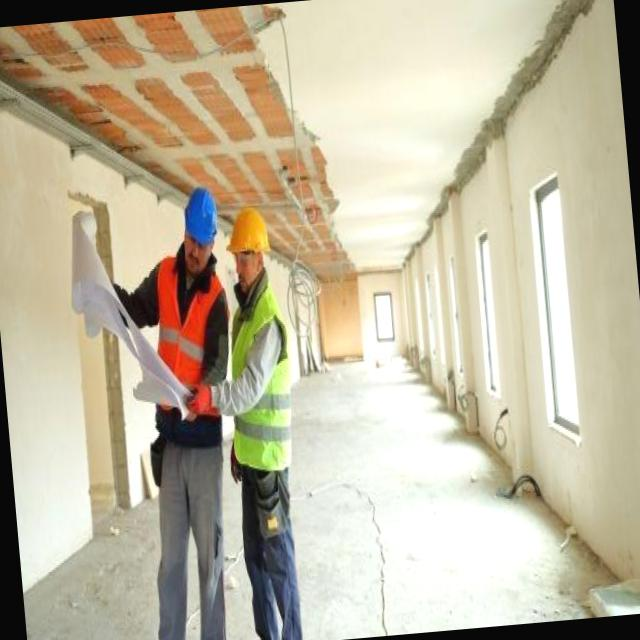helmet: (180, 178, 218, 254), (225, 204, 271, 258)
vest: (230, 292, 300, 490), (151, 249, 215, 440)
